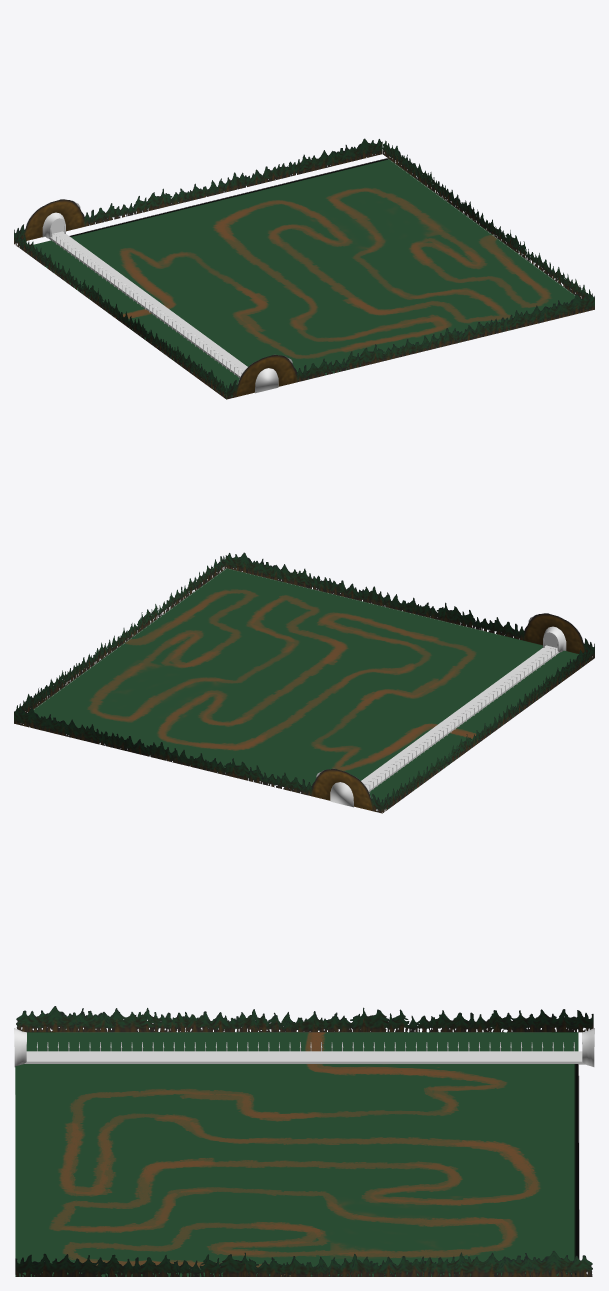
Rendered from Mundo miedo model.fbx.
3 views of the same model, one above another, from view 1: azimuth 30°, elevation 25°; view 2: azimuth 150°, elevation 25°; view 3: azimuth 270°, elevation 25° (orthographic). The views are drawn at different scales.
Visible parts, largest first — view 1: Cube, Cubo.001, Círculo, Cilindro.059; view 2: Cube, Cubo.001, Círculo, Cilindro.059; view 3: Cube, Cubo.001, Círculo, Cilindro.059.
Part boxes in pixels (bbox=[...]): Cube: bbox=[14, 138, 594, 399]; Cubo.001: bbox=[49, 231, 247, 377]; Círculo: bbox=[42, 212, 278, 393]; Cilindro.059: bbox=[52, 233, 242, 377]; Cube: bbox=[14, 552, 594, 813]; Cubo.001: bbox=[361, 645, 559, 791]; Círculo: bbox=[330, 626, 566, 807]; Cilindro.059: bbox=[365, 648, 555, 791]; Cube: bbox=[15, 1006, 593, 1276]; Cubo.001: bbox=[24, 1051, 585, 1064]; Círculo: bbox=[14, 1028, 594, 1066]; Cilindro.059: bbox=[36, 1042, 574, 1051].
Bounding box in the file's own units: 45692 × 16650 × 45849.
